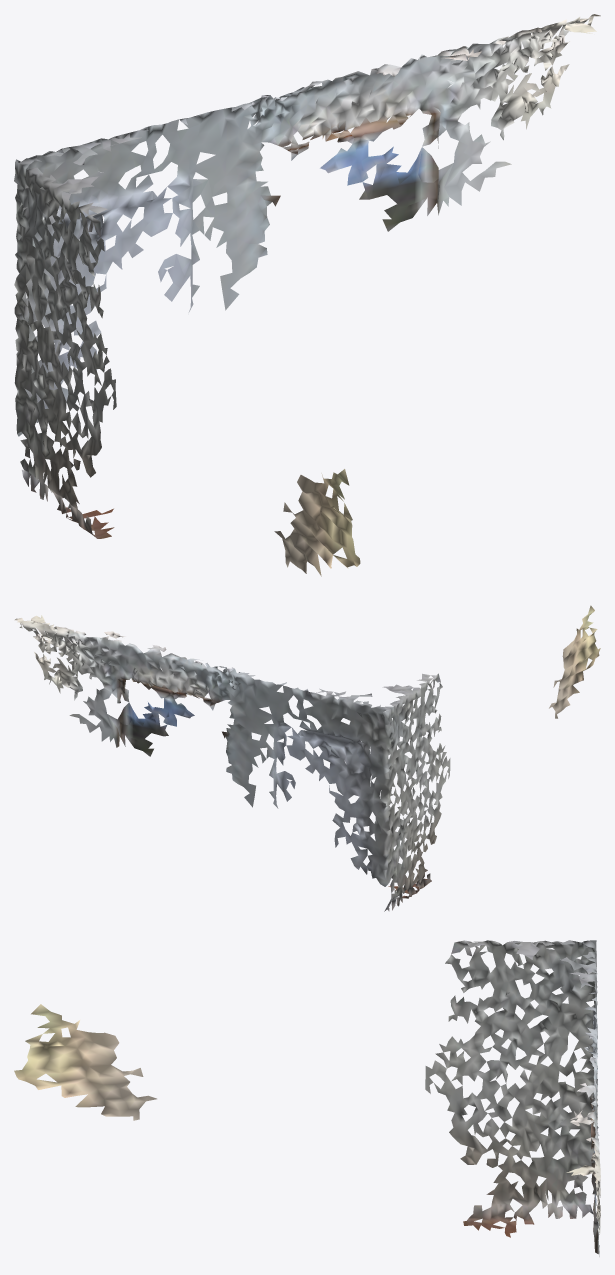
The model's file is rtab_estimated_textured.glb.
3 views of the same model, one above another, from view 1: azimuth 30°, elevation 25°; view 2: azimuth 150°, elevation 25°; view 3: azimuth 270°, elevation 25° (orthographic). The views are drawn at different scales.
Visible parts, largest first — view 1: Node; view 2: Node; view 3: Node.
Boxes of the visible parts, left/top/right/bottom form: Node: left=14, top=14, right=600, bottom=576; Node: left=14, top=605, right=600, bottom=911; Node: left=14, top=940, right=600, bottom=1256.
Size of the model in its own units: 4.72 by 2.56 by 4.77.
Materials: 1 (1 with a texture image).
